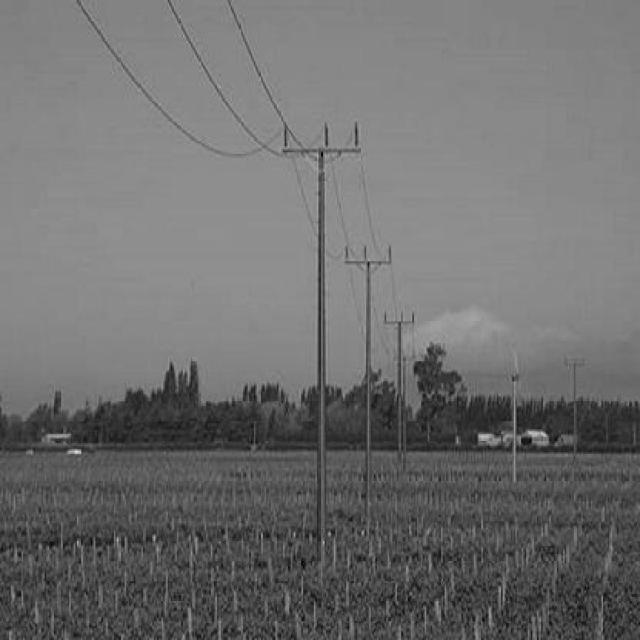Pole: (282, 124, 360, 569), (345, 248, 391, 530), (384, 313, 415, 478)
